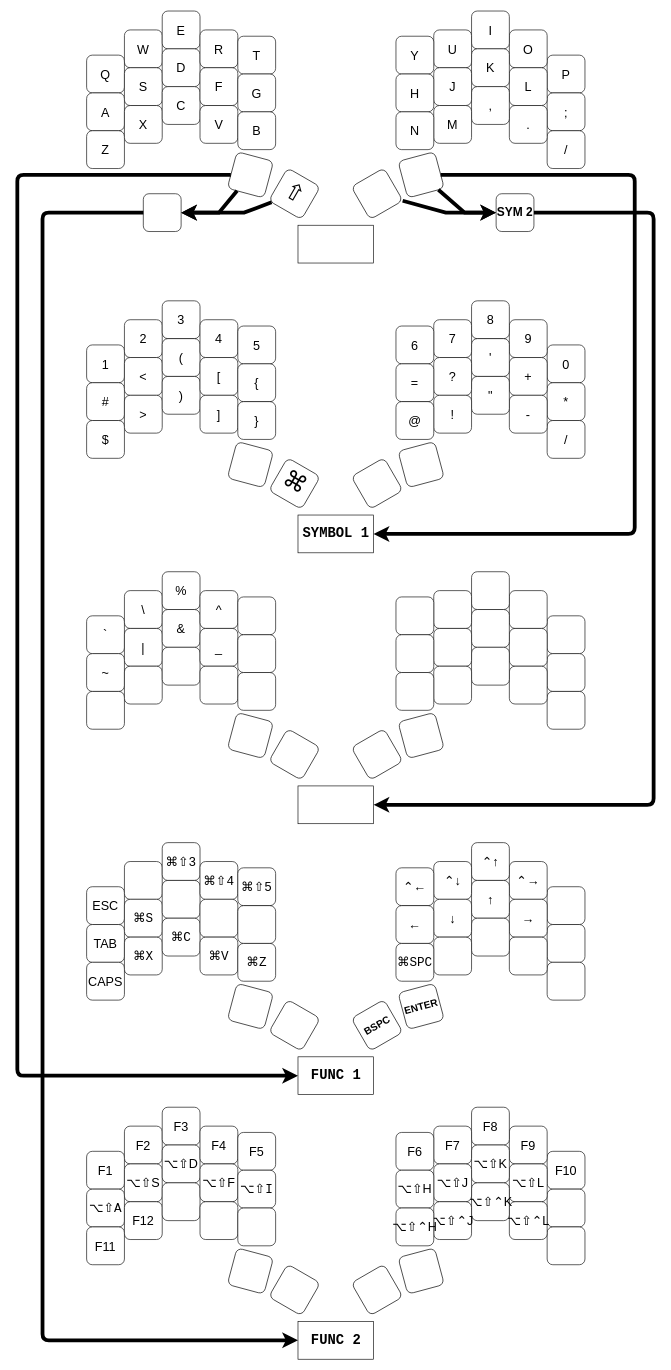
Some shapes in this 671 by 1370 pixel diagram are drawn without their labels. Here are the shapes that lost their labels. From the top down, the centre of each, then its label:
At (162,212): "FUN 2".
At (376,193): "SPC".
At (335,244): "QWERTY".
At (335,804): "SYMBOL 2".
